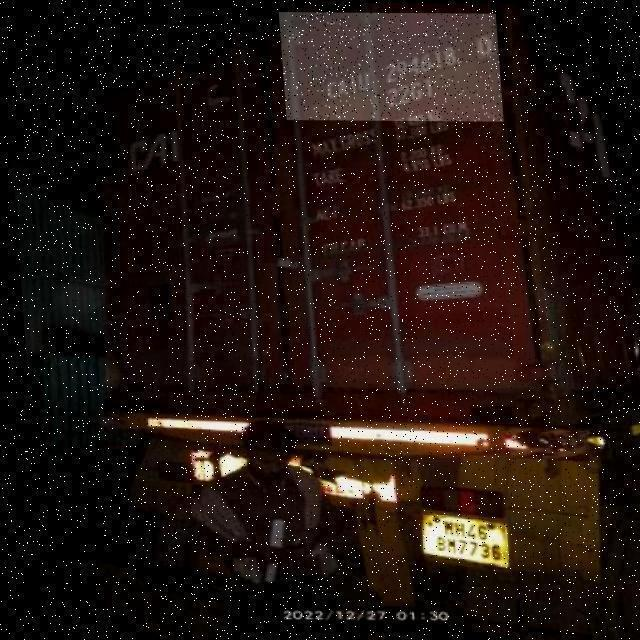ISO: (373, 70, 438, 112)
container_number: (322, 28, 494, 114)
